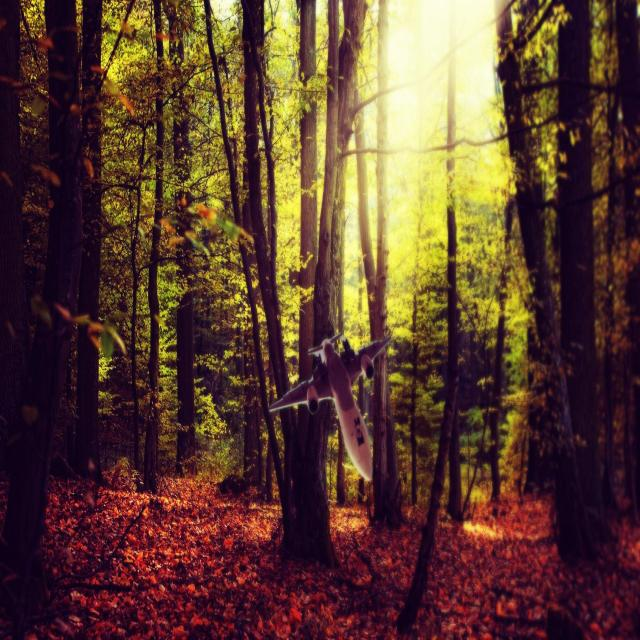airplane: (268, 328, 392, 482)
